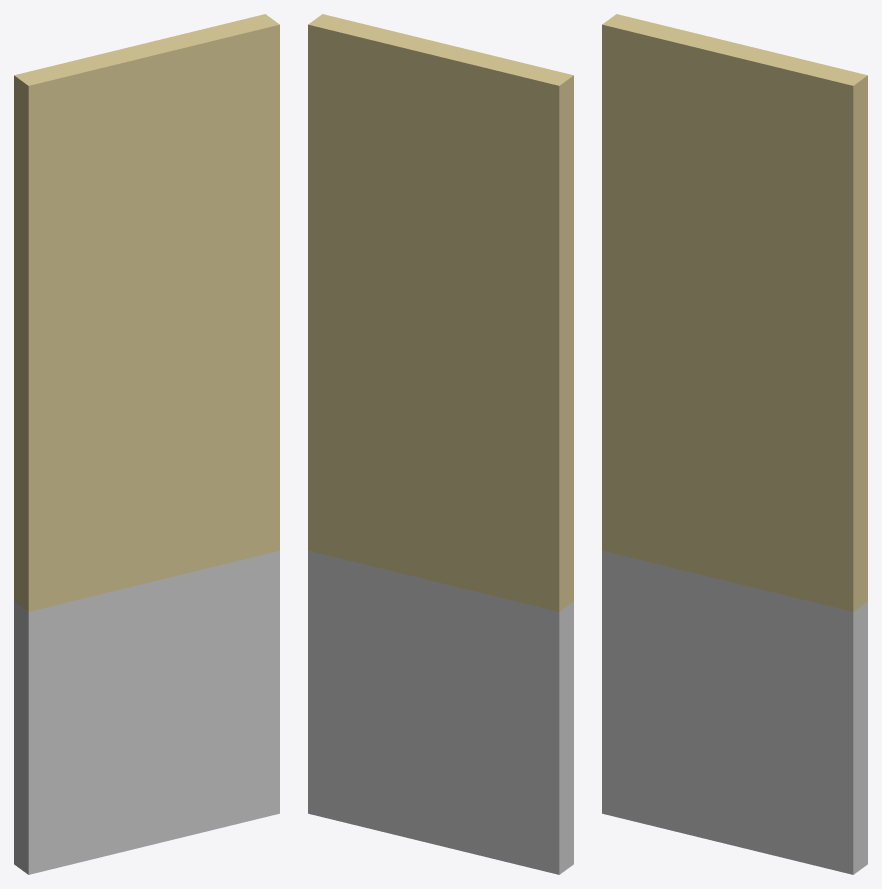
File: Mesh_Wall2Colors_I1.fbx
3 views of the same model, side by side, from view 1: azimuth 30°, elevation 25°; view 2: azimuth 150°, elevation 25°; view 3: azimuth 330°, elevation 25° (orthographic).
Parts seen in each view (by area): view 1: Mesh_Wall2Colors_I1; view 2: Mesh_Wall2Colors_I1; view 3: Mesh_Wall2Colors_I1.
Part boxes in pixels (x1,y1,x2,y2): Mesh_Wall2Colors_I1: (14,14,279,874); Mesh_Wall2Colors_I1: (308,14,573,874); Mesh_Wall2Colors_I1: (602,14,867,874).
Bounding box in the file's own units: 1 × 3 × 0.1.
